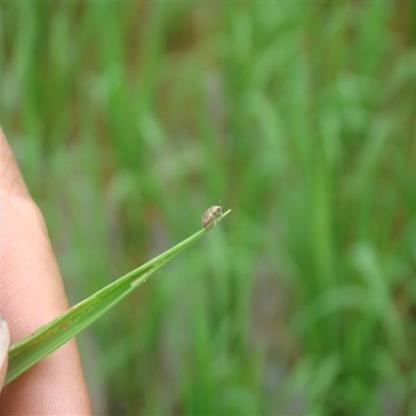rice-bug: (201, 202, 223, 232)
